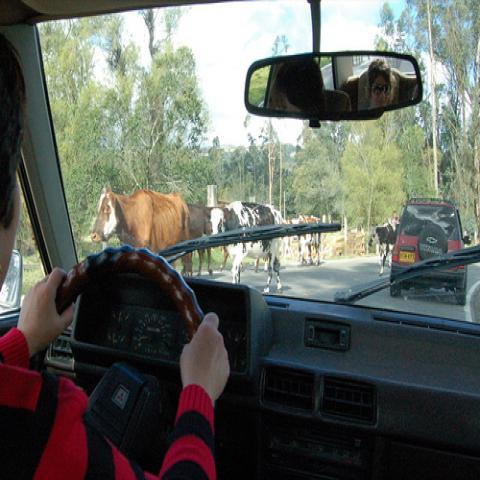car: (0, 0, 479, 470), (390, 198, 472, 306)
